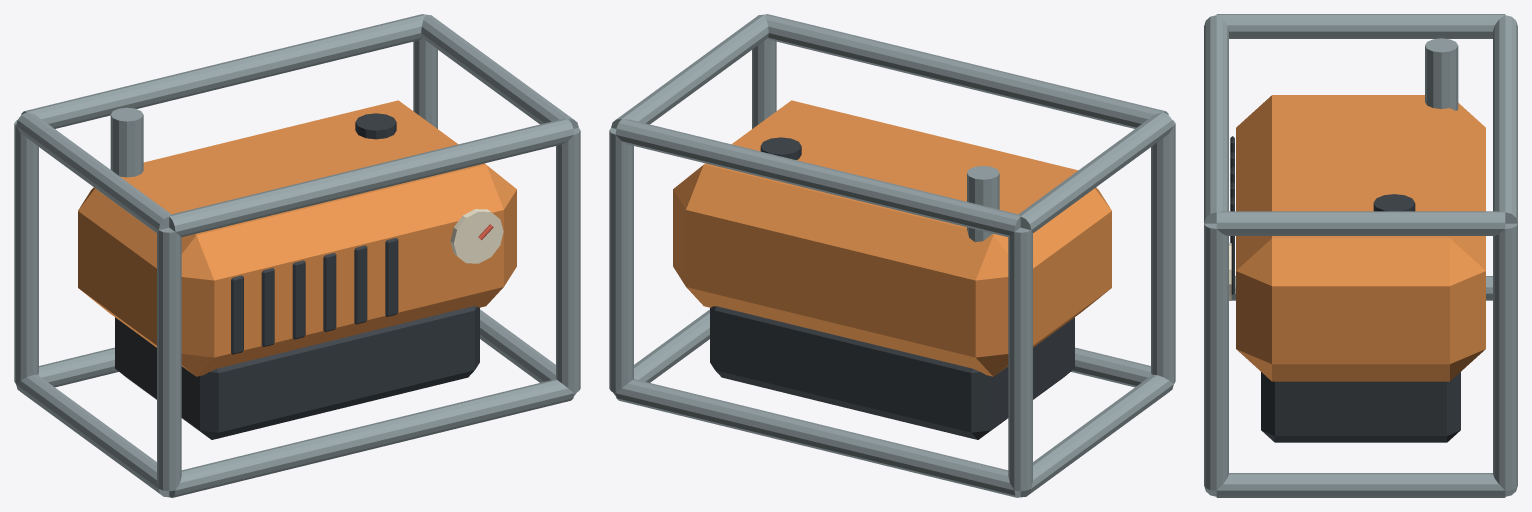
File: PortableGenerator.fbx
3 renders of one model, left to right at view 1: azimuth 30°, elevation 25°; view 2: azimuth 150°, elevation 25°; view 3: azimuth 270°, elevation 25°, orthographic.
Parts seen in each view (by area): view 1: Generator tank, Engine block, Cage crossbar.001, Cage crossbar, Cage crossbar.003, Cage upright, Cage upright.002, Cage upright.001, Cage rail.001, Cage rail, Cage rail.003, Exhaust (+11 smaller); view 2: Generator tank, Engine block, Cage crossbar.003, Cage crossbar.002, Cage crossbar.001, Cage upright.001, Cage upright.003, Cage upright, Cage rail.001, Cage rail, Cage rail.003, Cage rail.002 (+4 smaller); view 3: Generator tank, Engine block, Cage rail.003, Cage rail.002, Cage rail.001, Cage upright.002, Cage upright.003, Cage crossbar.001, Cage crossbar.003, Exhaust, Fuel cap.
Boxes of the visible parts, bbox=[...] form: Generator tank: bbox=[78, 100, 516, 376]; Engine block: bbox=[115, 306, 479, 439]; Cage crossbar.001: bbox=[169, 119, 574, 236]; Cage crossbar: bbox=[169, 379, 574, 497]; Cage crossbar.003: bbox=[21, 14, 425, 128]; Cage upright: bbox=[157, 227, 181, 491]; Cage upright.002: bbox=[556, 127, 580, 392]; Cage upright.001: bbox=[14, 120, 38, 383]; Cage rail.001: bbox=[16, 112, 171, 232]; Cage rail: bbox=[16, 374, 169, 497]; Cage rail.003: bbox=[421, 14, 578, 128]; Exhaust: bbox=[110, 107, 143, 177]; Generator tank: bbox=[673, 100, 1111, 376]; Engine block: bbox=[710, 306, 1074, 439]; Cage crossbar.003: bbox=[615, 119, 1020, 236]; Cage crossbar.002: bbox=[615, 379, 1020, 497]; Cage crossbar.001: bbox=[764, 14, 1168, 128]; Cage upright.001: bbox=[1008, 227, 1032, 491]; Cage upright.003: bbox=[609, 127, 633, 392]; Cage upright: bbox=[1151, 120, 1175, 383]; Cage rail.001: bbox=[1018, 112, 1173, 232]; Cage rail: bbox=[1020, 374, 1173, 497]; Cage rail.003: bbox=[611, 14, 768, 128]; Cage rail.002: bbox=[613, 309, 709, 395]; Generator tank: bbox=[1236, 95, 1485, 381]; Engine block: bbox=[1261, 372, 1460, 442]; Cage rail.003: bbox=[1216, 211, 1505, 235]; Cage rail.002: bbox=[1216, 473, 1505, 497]; Cage rail.001: bbox=[1216, 14, 1505, 38]; Cage upright.002: bbox=[1204, 223, 1228, 490]; Cage upright.003: bbox=[1493, 223, 1517, 490]; Cage crossbar.001: bbox=[1204, 15, 1228, 223]; Cage crossbar.003: bbox=[1493, 15, 1517, 223]; Exhaust: bbox=[1425, 38, 1458, 110]; Fuel cap: bbox=[1373, 194, 1415, 211].
Bounding box in the file's own units: 1.77 × 1.14 × 1.13.
